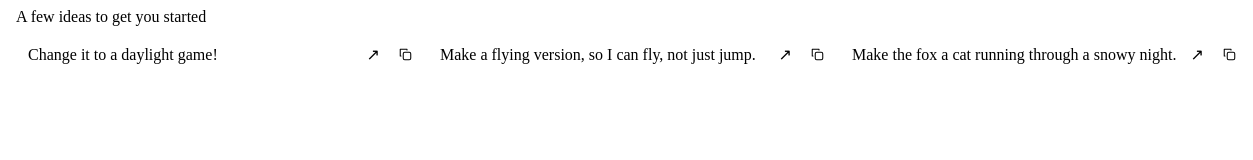
Test: does not replace the user’s composer content when copying an example
Click the button named "Copy prompt: Change it to a daylight game!" at point(405, 54), box [390,34,420,75]
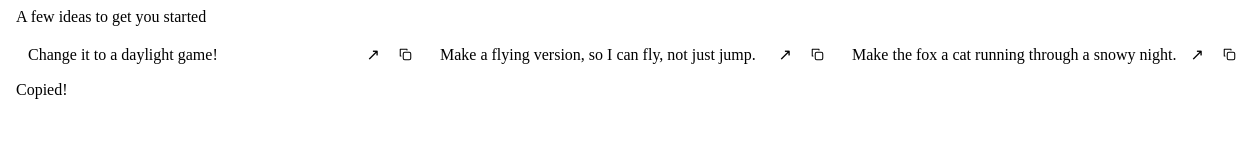
expect the text "Copied!" is shown: met, box [16,81,68,98]
